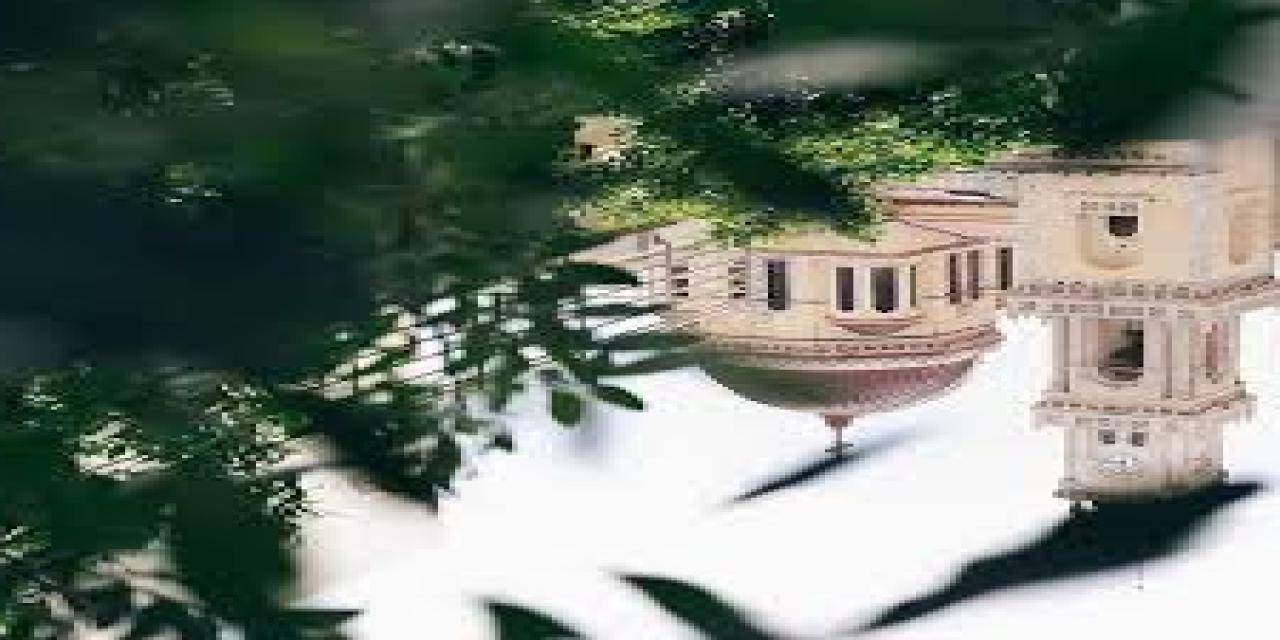Agios Minas: (598, 133, 1280, 593)
